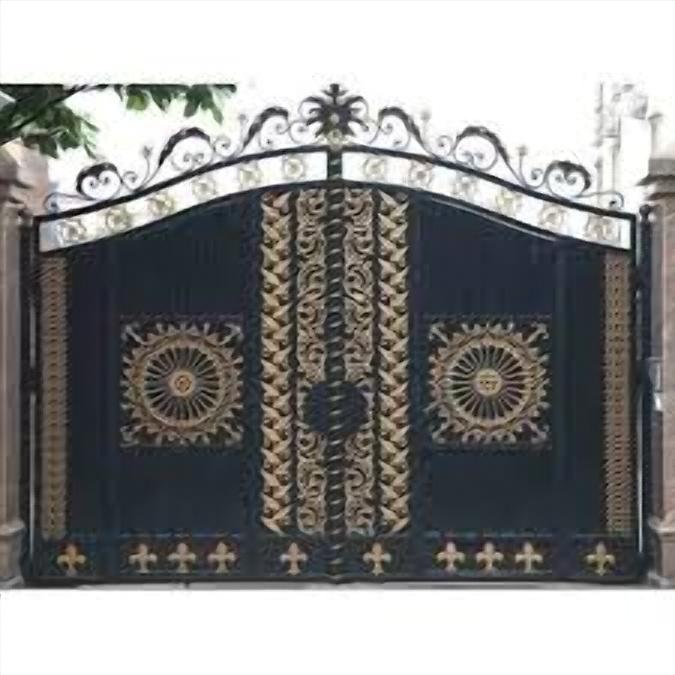Gate: (15, 82, 654, 587)
